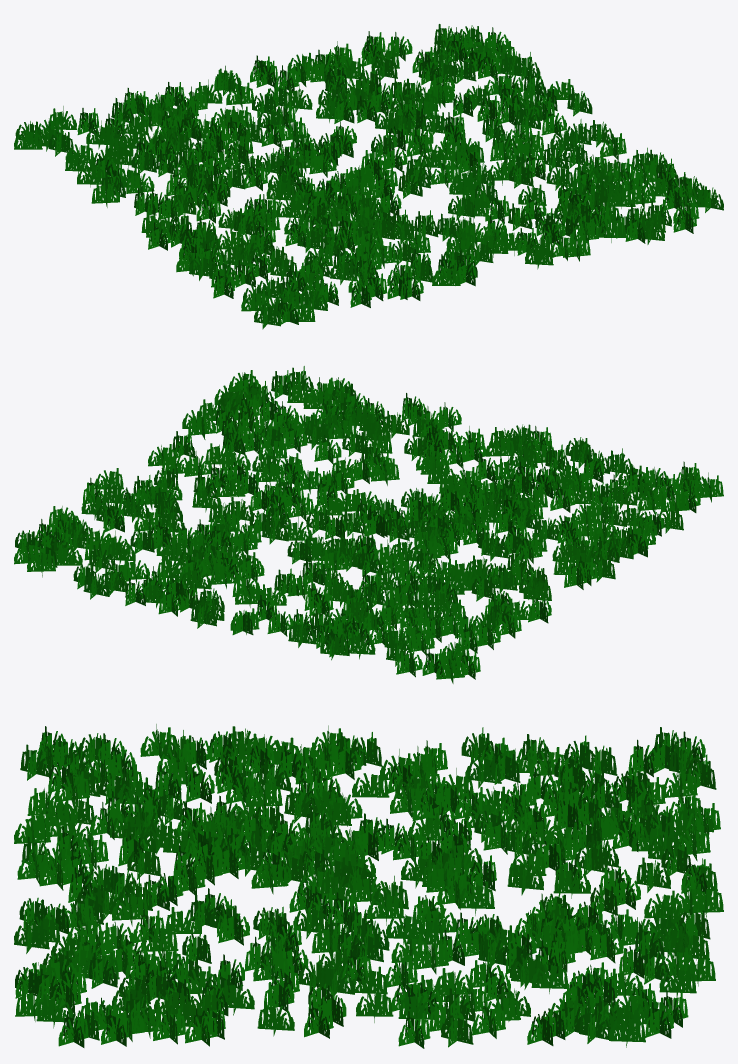
Rendered from Grass.fbx.
The picture shows the model from 3 angles, top to bottom: view 1: azimuth 30°, elevation 25°; view 2: azimuth 150°, elevation 25°; view 3: azimuth 270°, elevation 25°; orthographic projection. The views are drawn at different scales.
Parts seen in each view (by area): view 1: GrassPatch; view 2: GrassPatch; view 3: GrassPatch.
Part boxes in pixels (x1,y1,x2,y2): GrassPatch: (14,24,723,329); GrassPatch: (14,366,723,683); GrassPatch: (14,724,723,1048).
Bounding box in the file's own units: 525 × 521 × 27.25.
